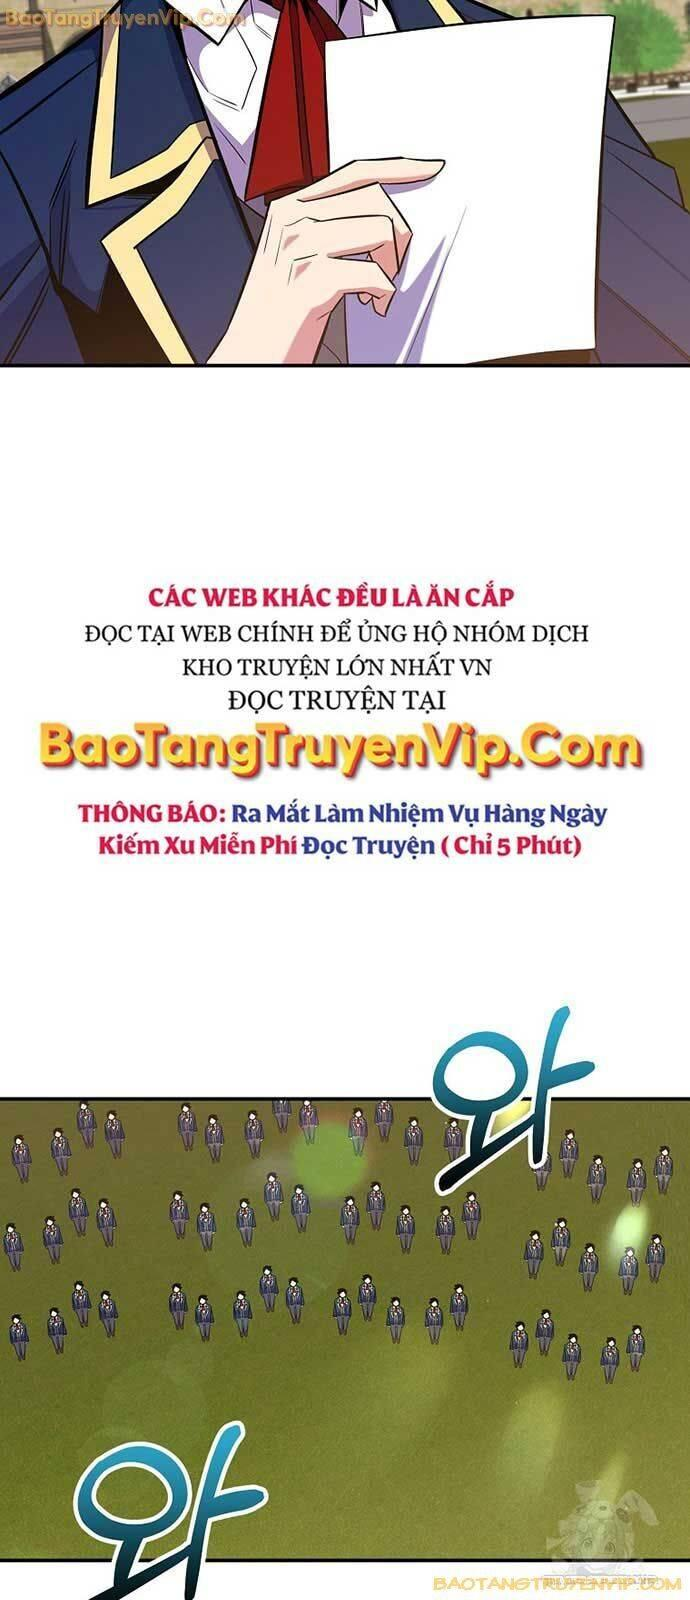quangcao: (42, 580, 650, 862)
